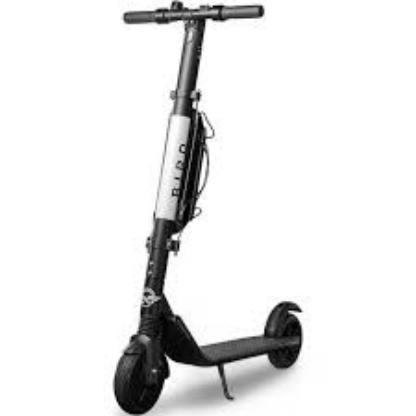bike: (112, 1, 308, 416)
